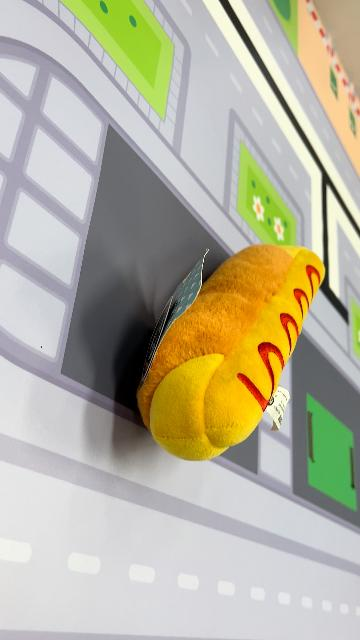hotdog: (137, 242, 328, 463)
